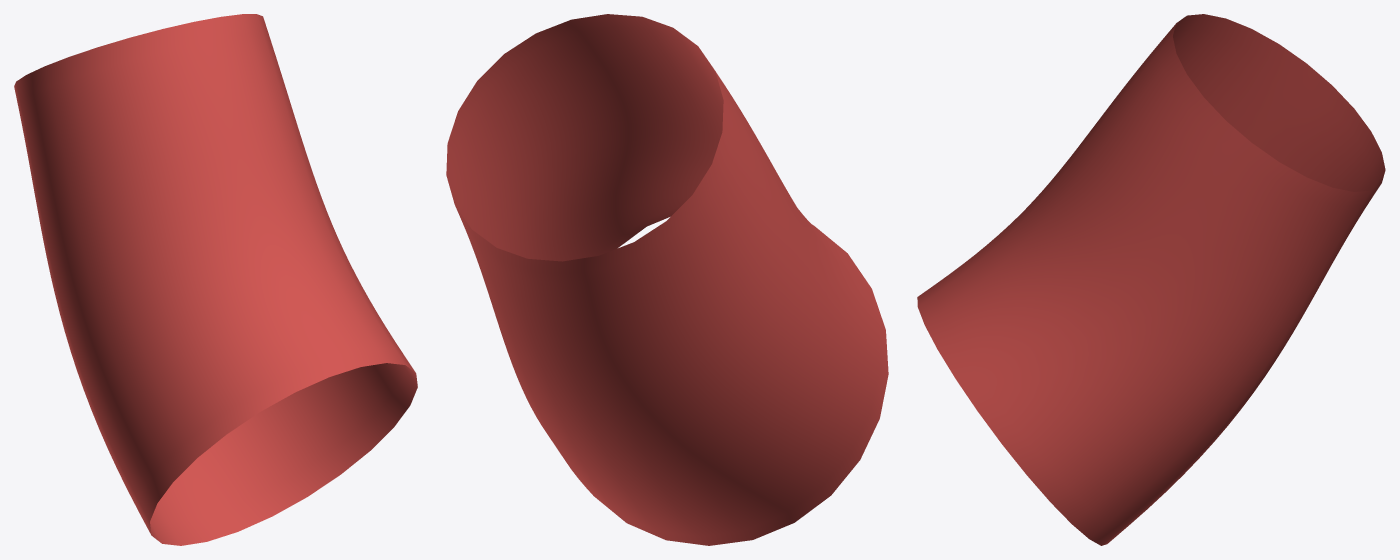
3 views of the same model, side by side, from view 1: azimuth 30°, elevation 25°; view 2: azimuth 150°, elevation 25°; view 3: azimuth 270°, elevation 25° (orthographic). The views are drawn at different scales.
Parts seen in each view (by area): view 1: 右侧髂内动脉后干; view 2: 右侧髂内动脉后干; view 3: 右侧髂内动脉后干.
Boxes of the visible parts, x1=… form: 右侧髂内动脉后干: x1=14, y1=14, x2=417, y2=545; 右侧髂内动脉后干: x1=446, y1=14, x2=888, y2=545; 右侧髂内动脉后干: x1=917, y1=14, x2=1385, y2=545.
Size of the model in its own units: 0.00859 by 0.0147 by 0.0126.
